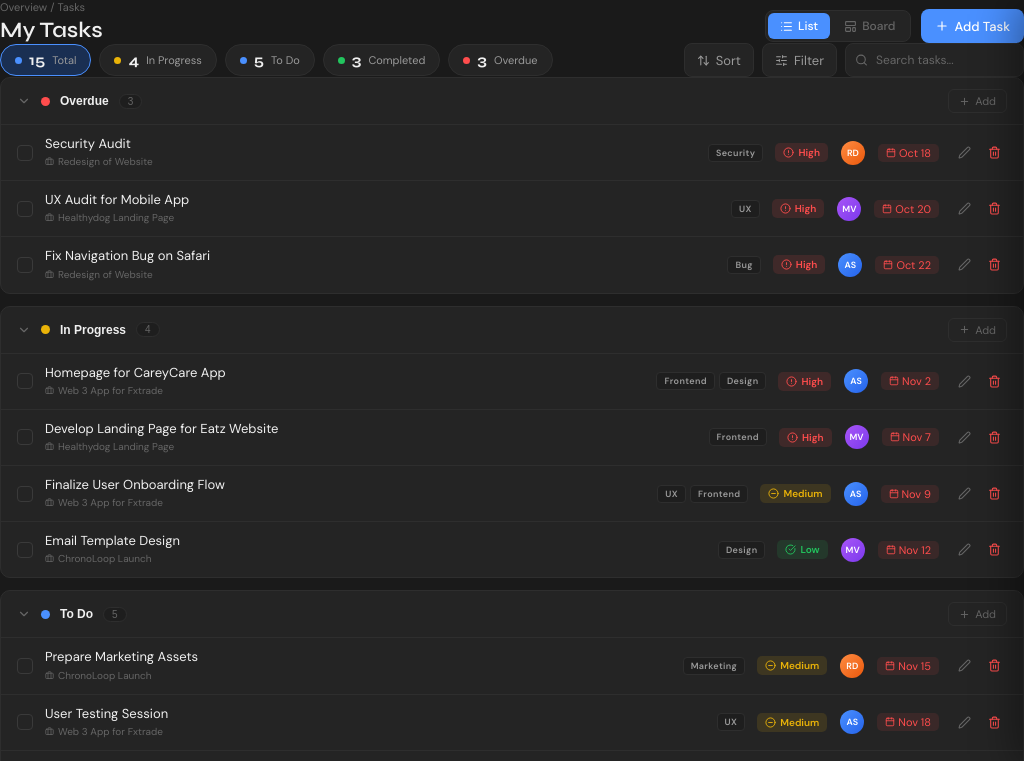
Test: TasksPage › opening a task then clicking its Edit button in the detail panel opens the edit modal
Click the text "Homepage for CareyCare App".
click(135, 372)  # box x1=45 y1=364 x2=226 y2=381
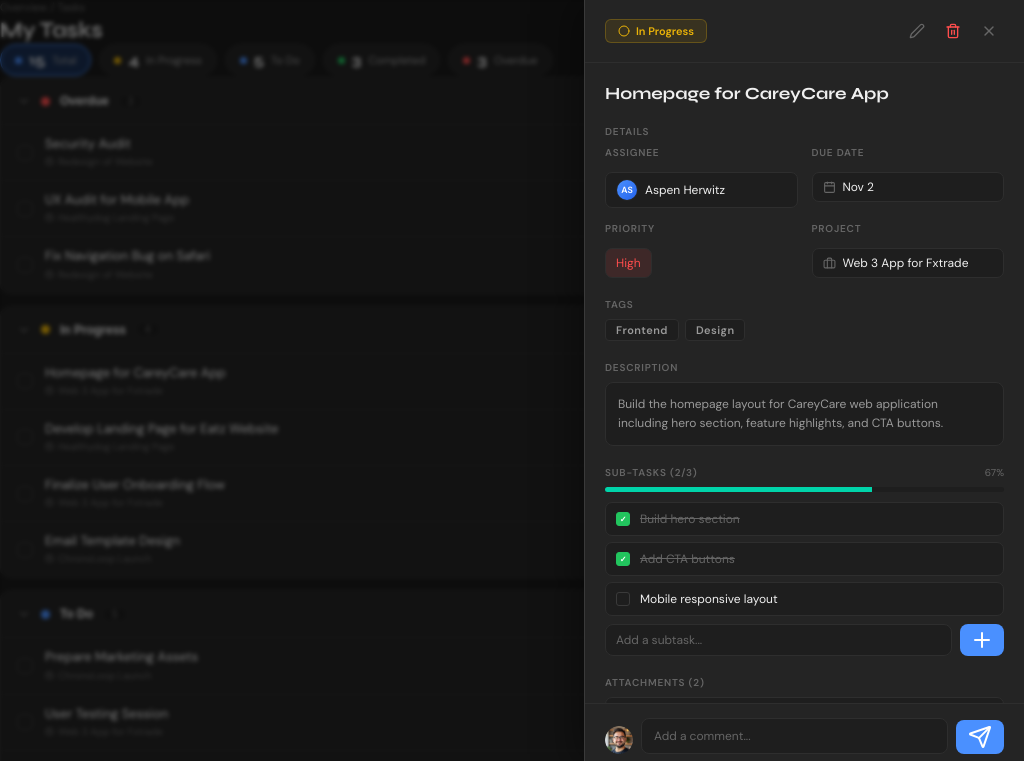
Click the button named "Edit task".
click(917, 31)  # box x1=902 y1=16 x2=932 y2=46
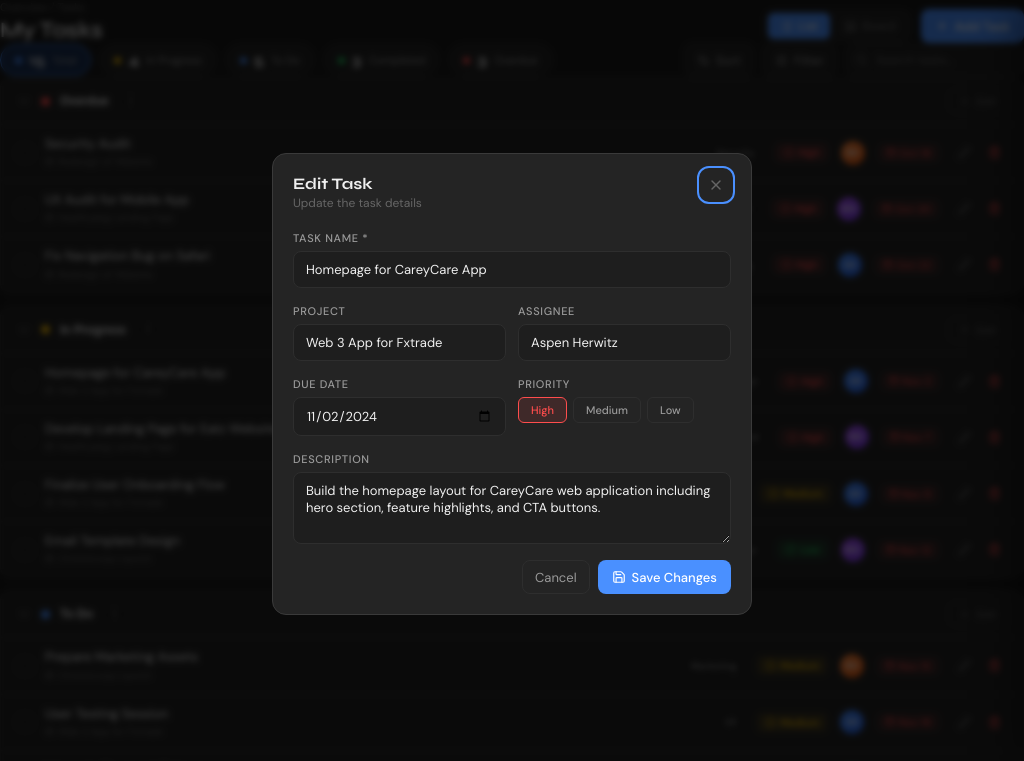
Expected: the heading "Edit Task" is shown, x1=293 y1=174 x2=373 y2=193
